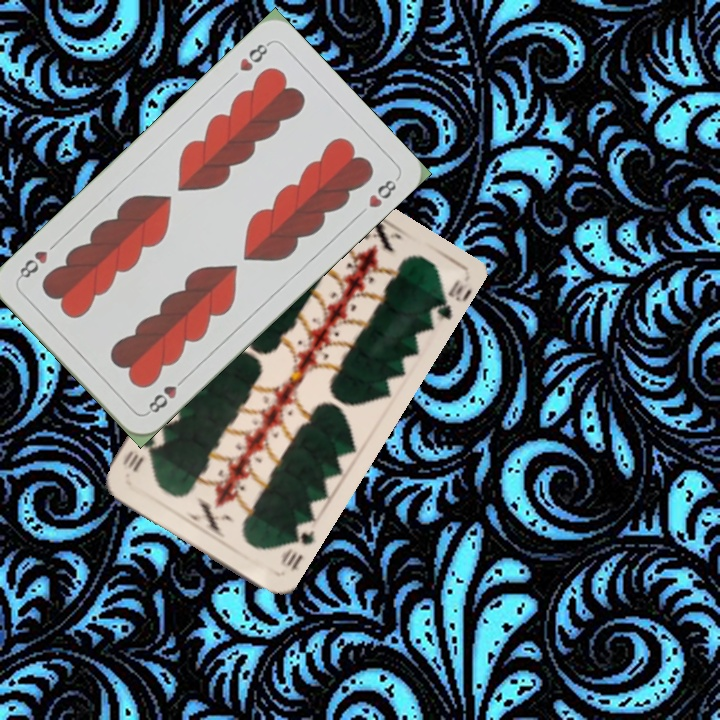G10: (276, 525, 318, 574)
H8: (143, 372, 189, 417), (235, 38, 273, 74)
